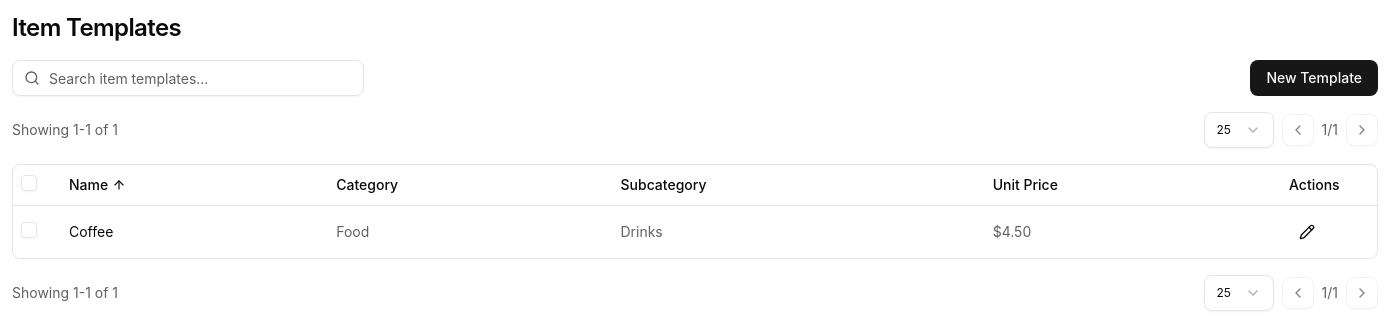
ItemTemplates › toggles checkbox selection and shows delete button
Click the checkbox named "Select Coffee". click: x=29, y=230
box: [21,222,37,238]
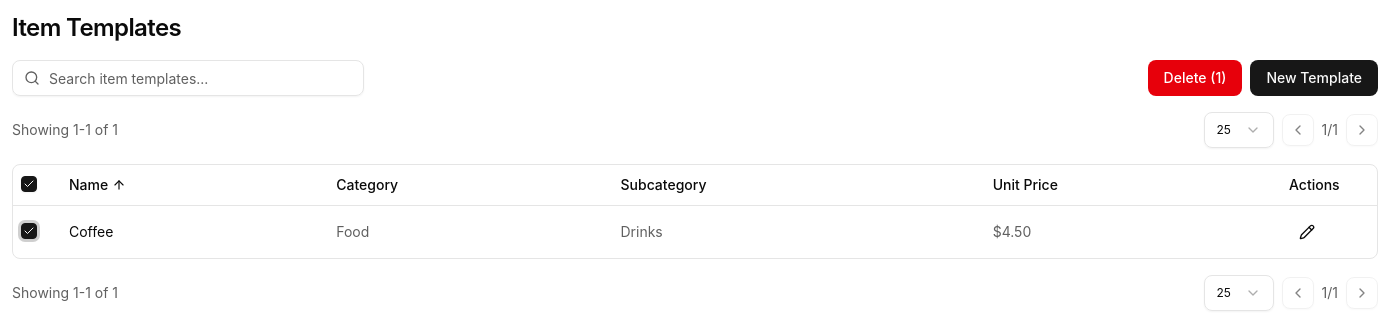
Result: the button "Delete (1)" is shown at [1148,60,1242,96]
